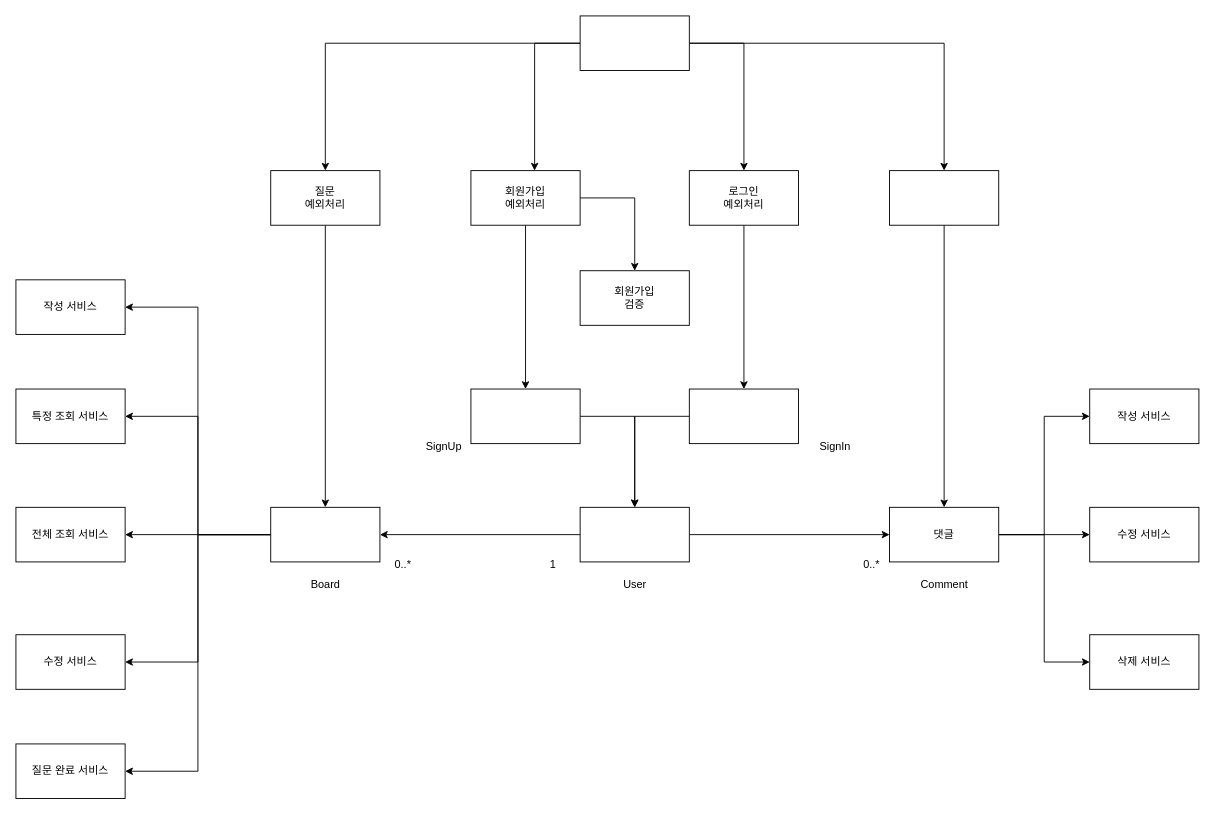
The diagram is 1215 pixels wide and 814 high, and some of its shapes have lost their labels. The centre of each missing label's shape, as x and y in pixels:
"글로벌 예외처리" belongs at (634,43).
"댓글 예외처리" belongs at (944,197).
"로그인" belongs at (743,416).
"사용자" belongs at (634,534).
"질문글" belongs at (325,534).
"회원가입" belongs at (525,416).
